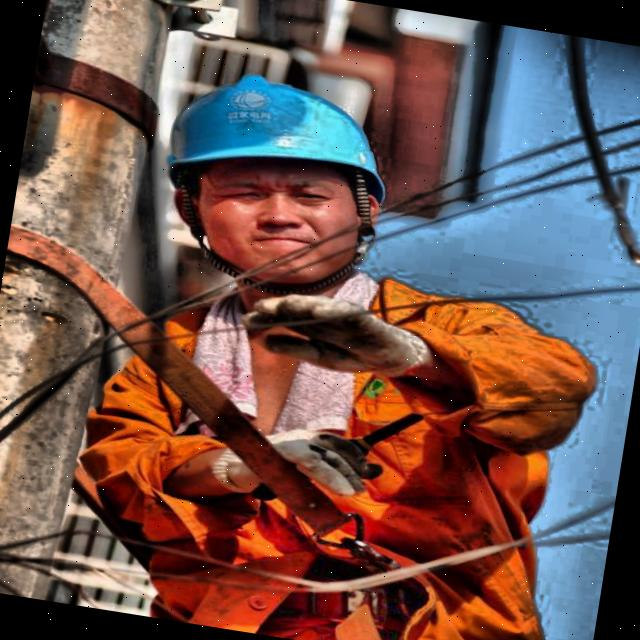helmet: (124, 41, 430, 315)
